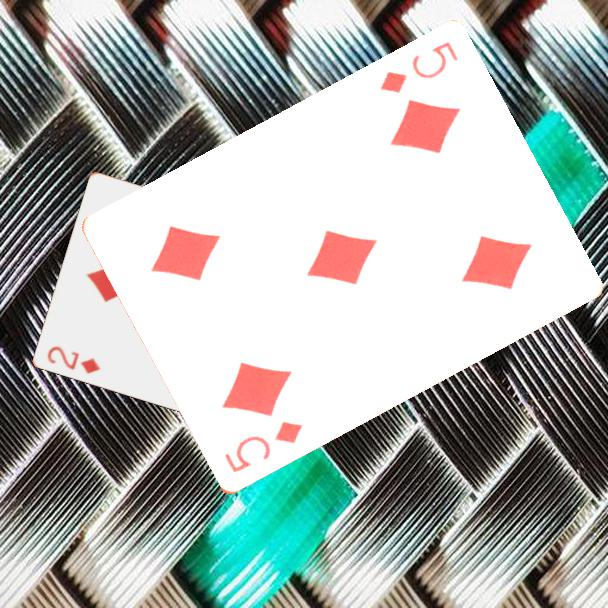d02: (44, 342, 103, 376)
d05: (376, 38, 461, 98), (221, 418, 305, 476)
